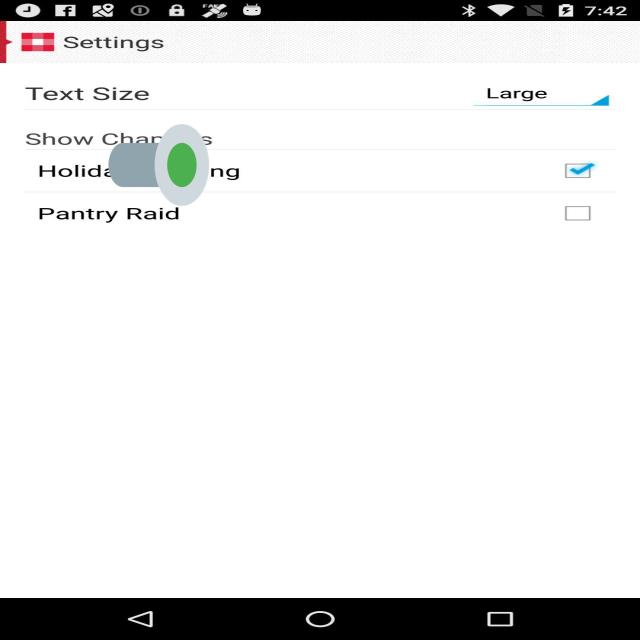social proof: (109, 89, 209, 241)
